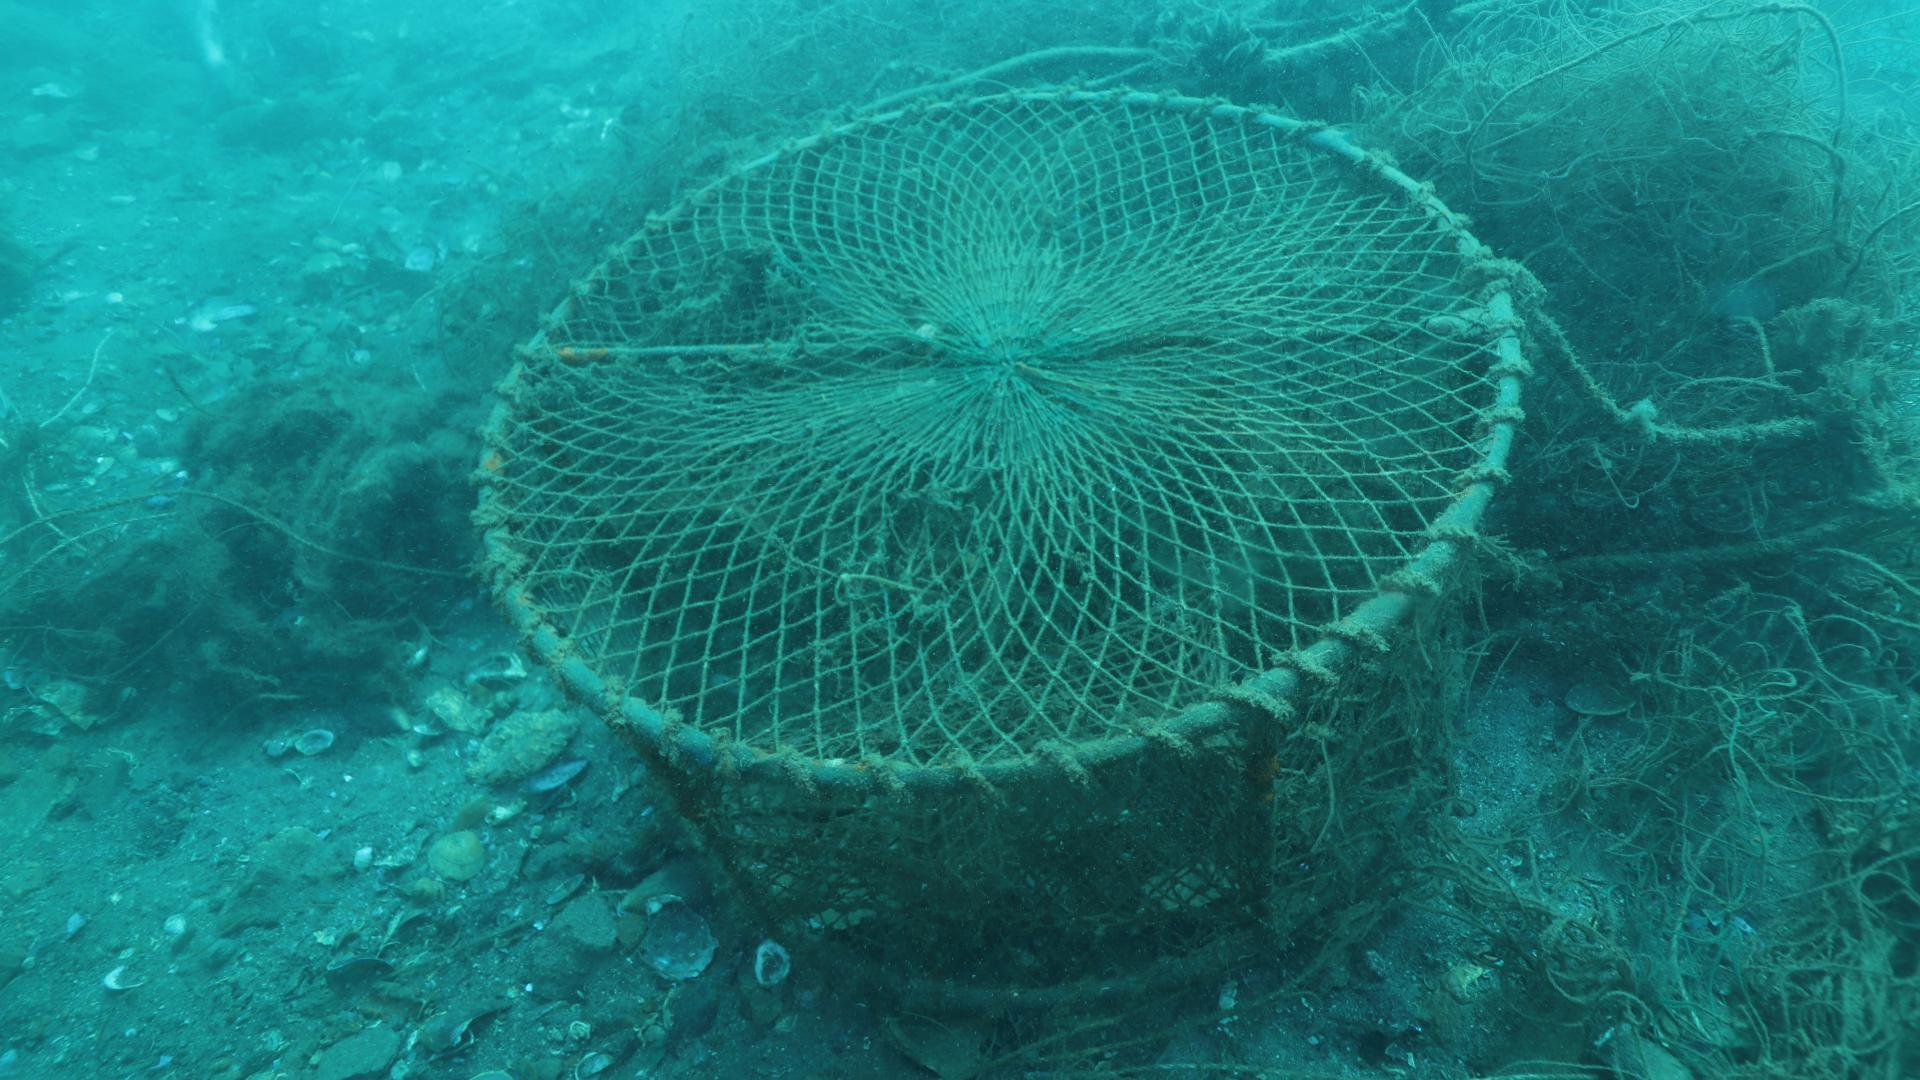circular fish trap: (477, 82, 1526, 1021)
